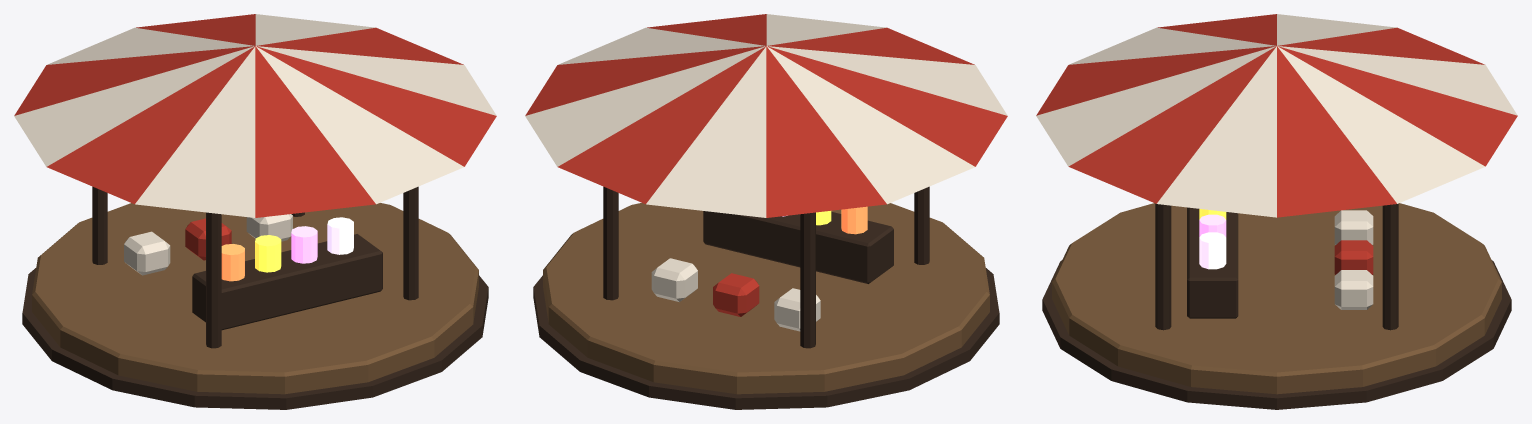
The model's file is spice_stand.glb.
3 renders of one model, left to right at view 1: azimuth 30°, elevation 25°; view 2: azimuth 150°, elevation 25°; view 3: azimuth 270°, elevation 25°, orthographic.
Parts seen in each view (by area): view 1: stand_mesh; view 2: stand_mesh; view 3: stand_mesh.
Boxes of the visible parts, box(x1,y1,x2,y2) form: stand_mesh: box(14, 14, 496, 409); stand_mesh: box(525, 14, 1007, 409); stand_mesh: box(1036, 14, 1517, 409).
Size of the model in its own units: 15 by 9.1 by 15.
